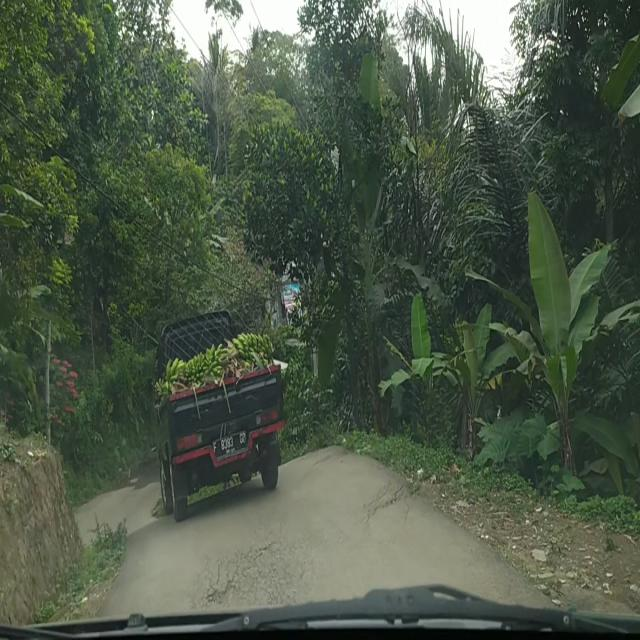Drain Hole: (187, 538, 299, 617), (361, 470, 411, 522)
